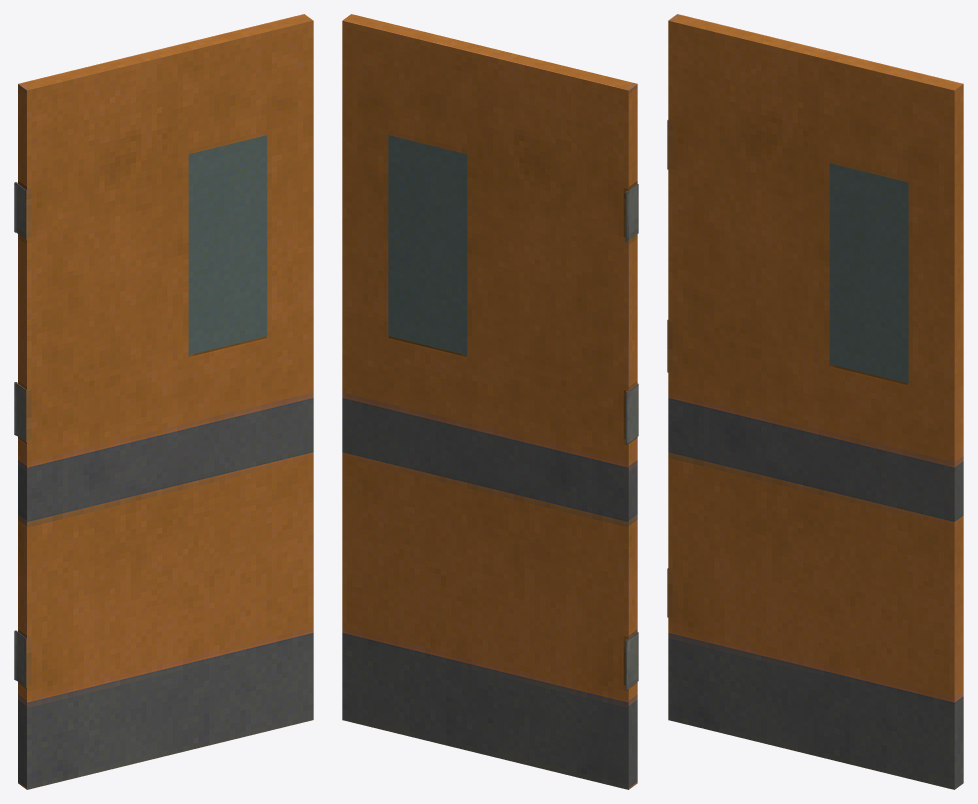
File: SM_DoubleDoor_DR.fbx
3 renders of one model, left to right at view 1: azimuth 30°, elevation 25°; view 2: azimuth 150°, elevation 25°; view 3: azimuth 330°, elevation 25°, orthographic.
Visible parts, largest first — view 1: SM_DoubleDoor_DR; view 2: SM_DoubleDoor_DR; view 3: SM_DoubleDoor_DR.
Boxes of the visible parts, box(x1,y1,x2,y2) form: SM_DoubleDoor_DR: box(14, 14, 313, 789); SM_DoubleDoor_DR: box(342, 14, 638, 789); SM_DoubleDoor_DR: box(667, 14, 963, 789).
Bounding box in the file's own units: 90.52 × 210 × 6.27.
